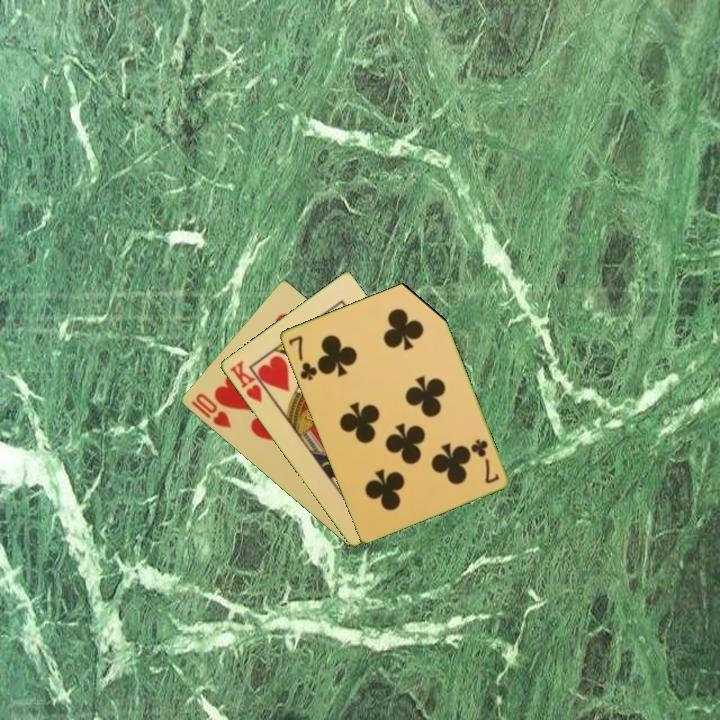10h: (187, 390, 234, 431)
7c: (284, 332, 320, 383), (467, 435, 502, 486)
Kh: (226, 357, 274, 406)
